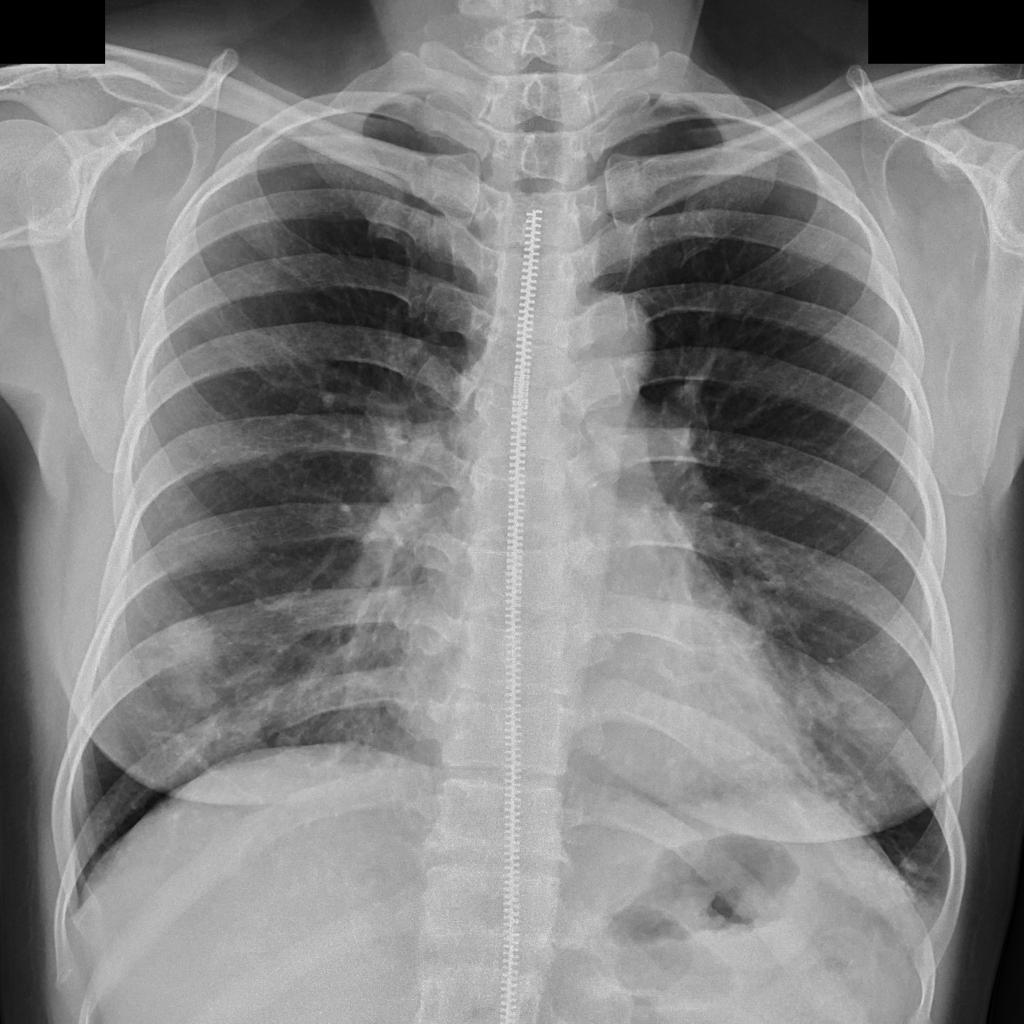Nodule: (164, 621, 218, 668)
